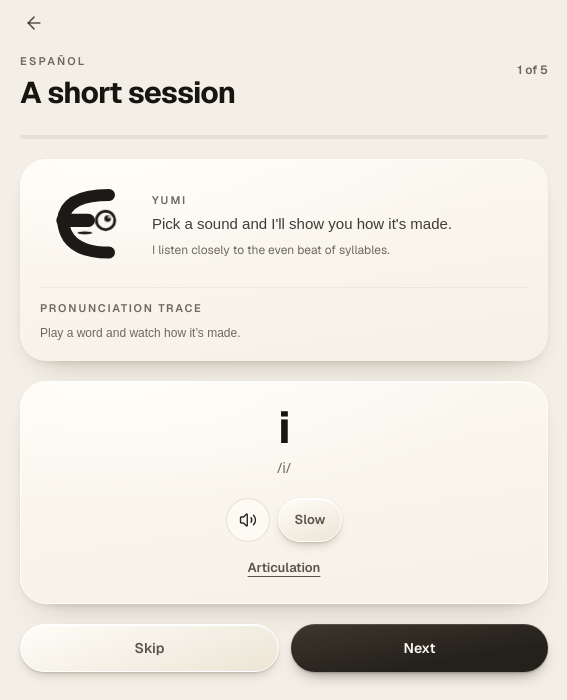
Test: Today's training › counts a skip separately from a wrong answer
The width and height of the screenshot is (567, 700).
expect the text "1 of 5" is shown: met, box x1=517 y1=62 x2=548 y2=78
Click the button "Skip": [150, 648] box x1=20 y1=624 x2=279 y2=672
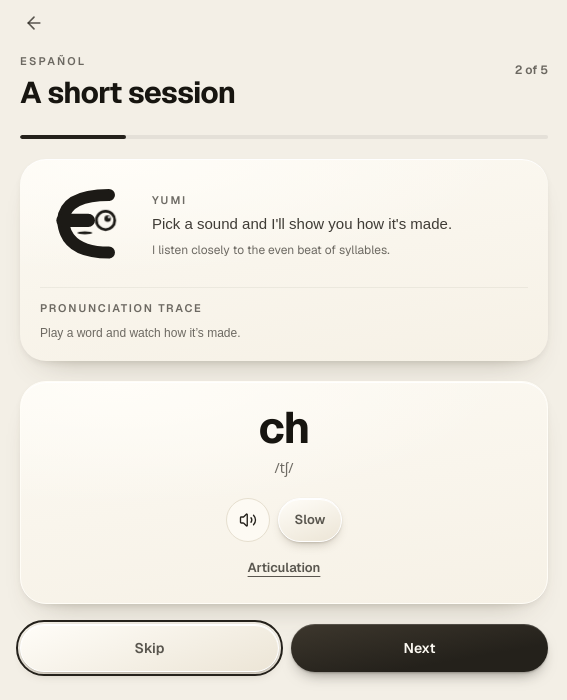
expect the text "2 of 5" is shown: met, box x1=515 y1=62 x2=548 y2=78
